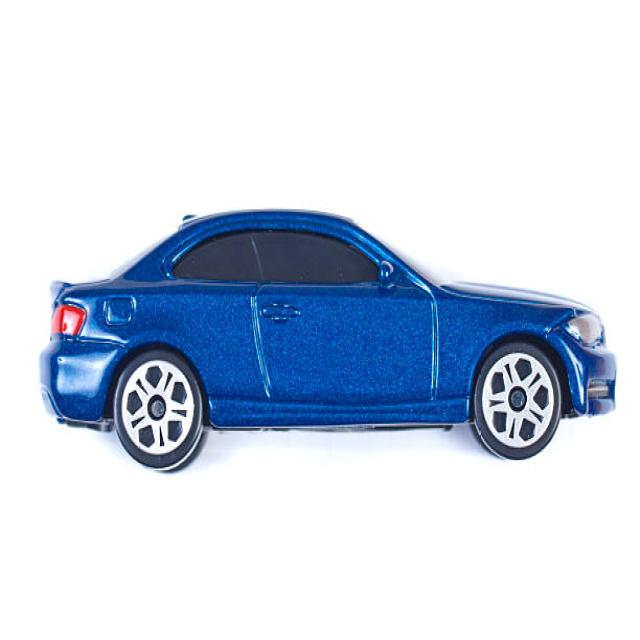Car: (38, 206, 617, 473)
